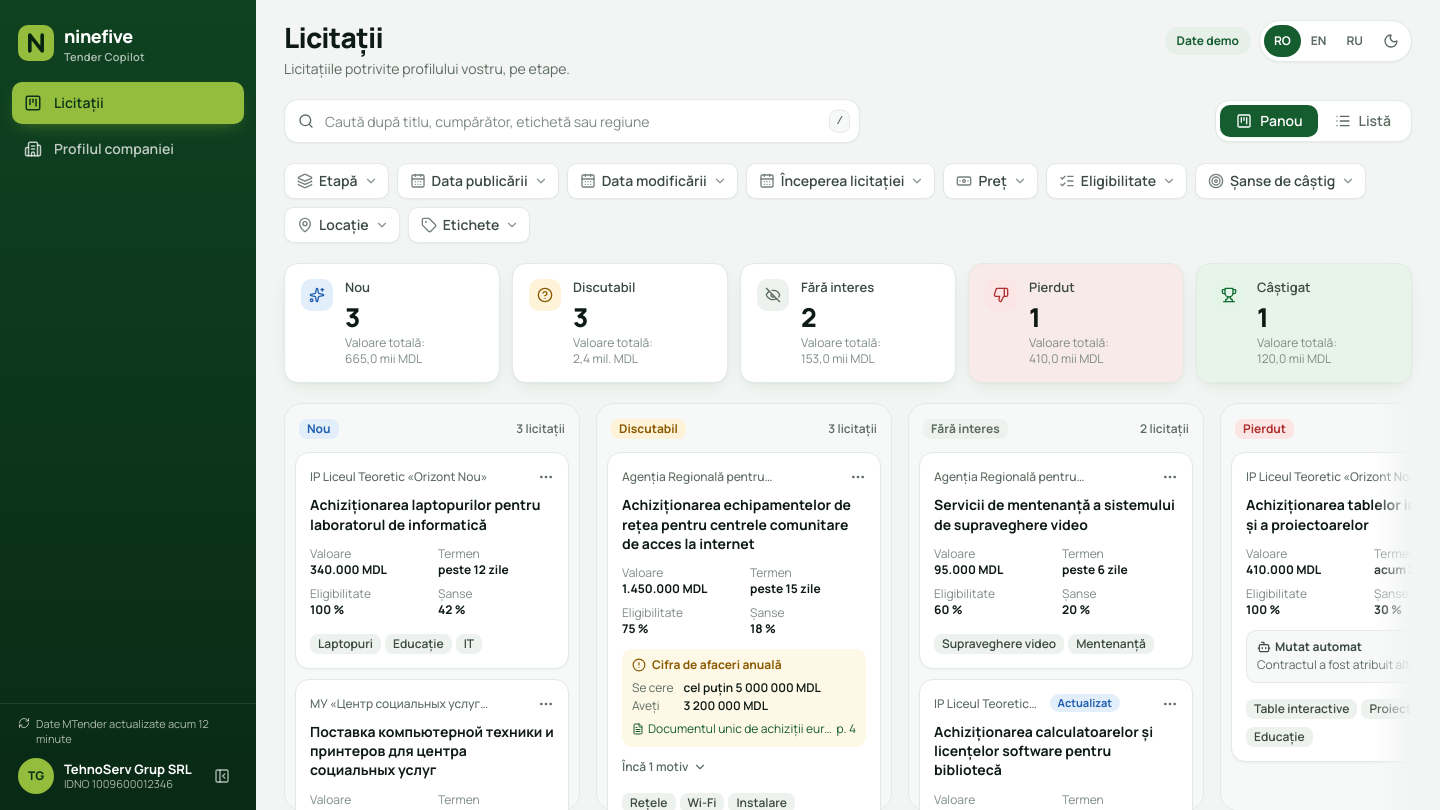
Test case: board filters › filters by location from the list of regions
The image size is (1440, 810).
Expected: the link "Achiziționarea echipamentelor de rețea pentru centrele comunitare de acces la internet" is shown, [622,495,851,553]
Click the button "Locație" at coordinates (342, 225), box [285,208,399,242]
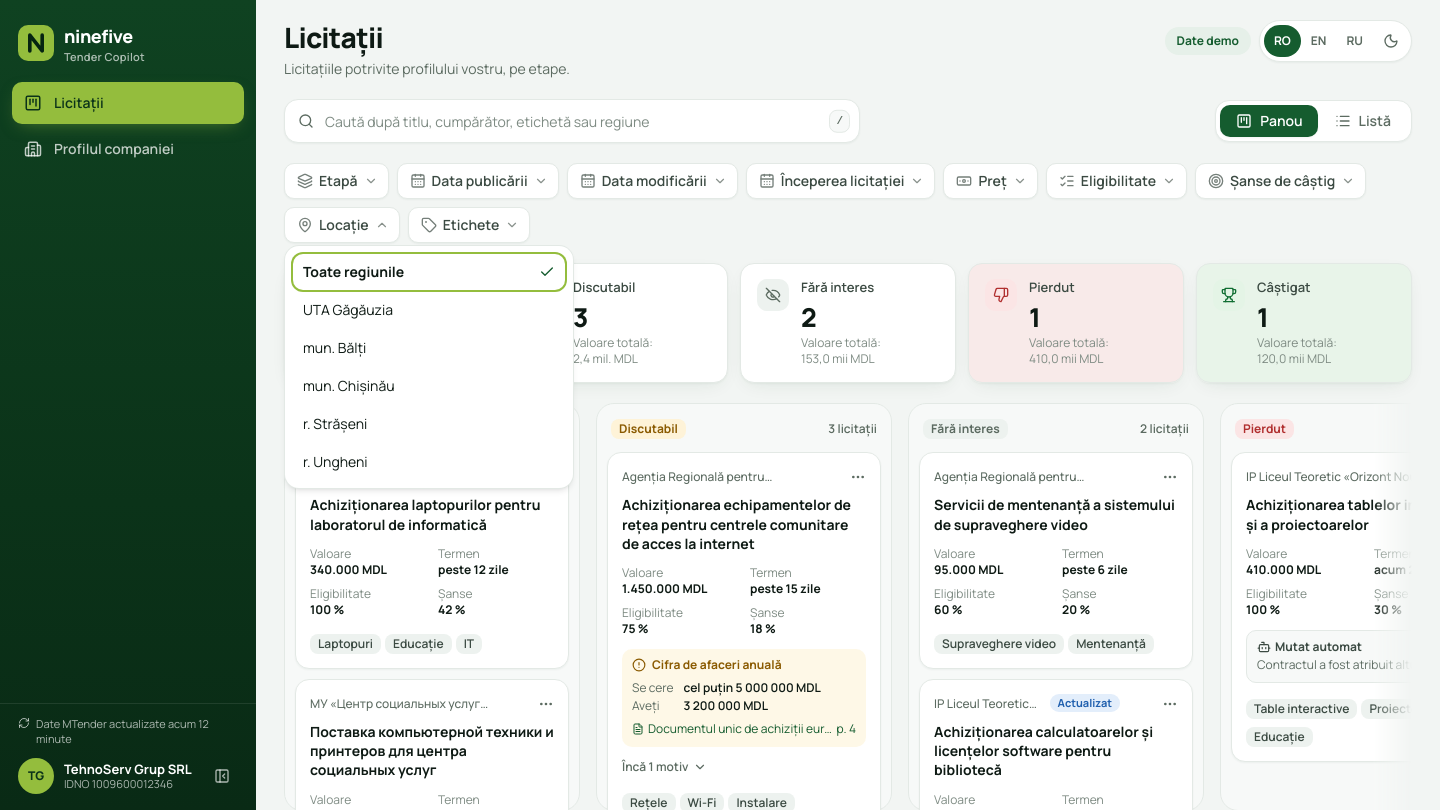
Click the button "UTA Găgăuzia" at coordinates (348, 310), box [293,292,565,328]
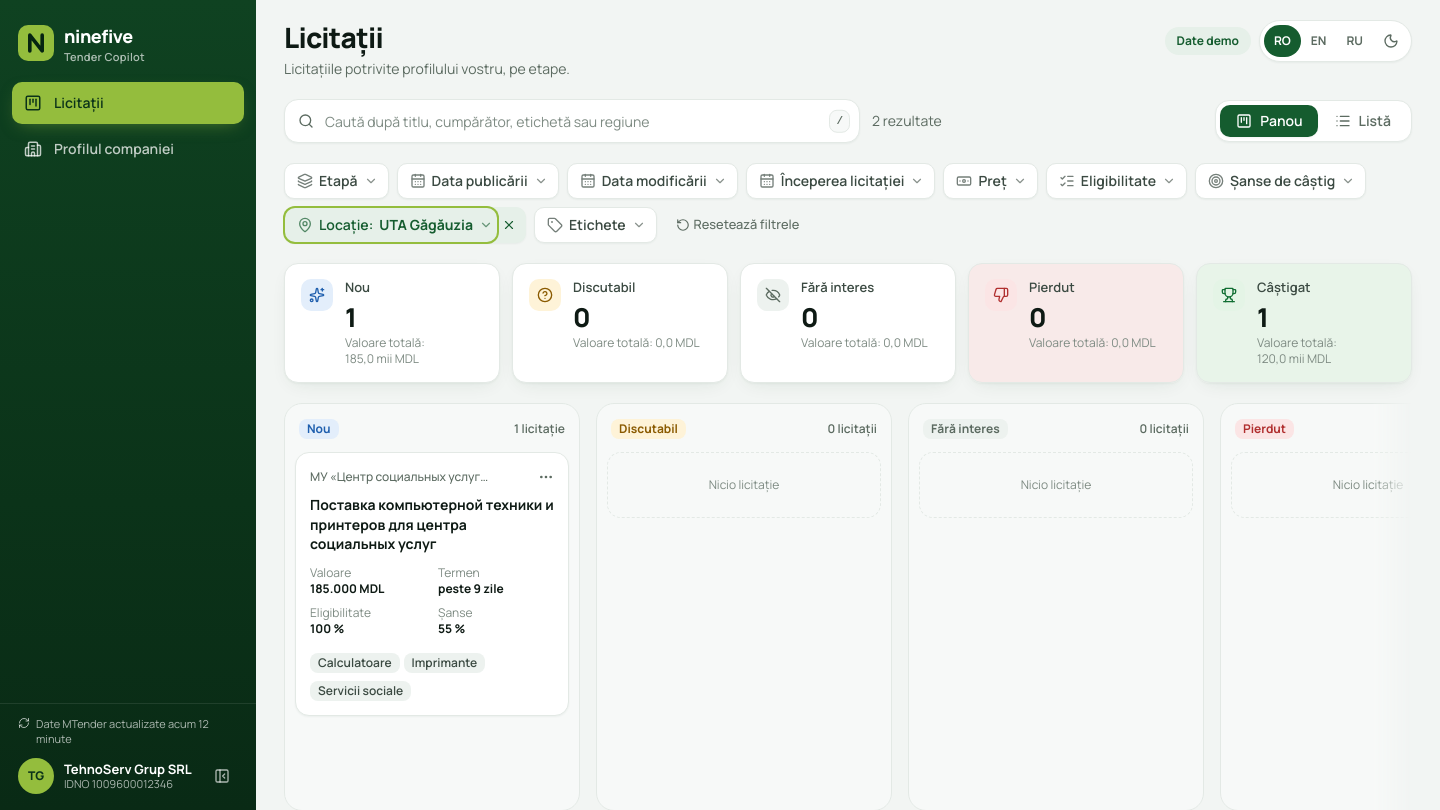
Expected: the button named "Locație:UTA Găgăuzia" is shown, [285,208,497,242]
Expected: the link "Achiziționarea echipamentelor de rețea pentru centrele comunitare de acces la internet" is gone
